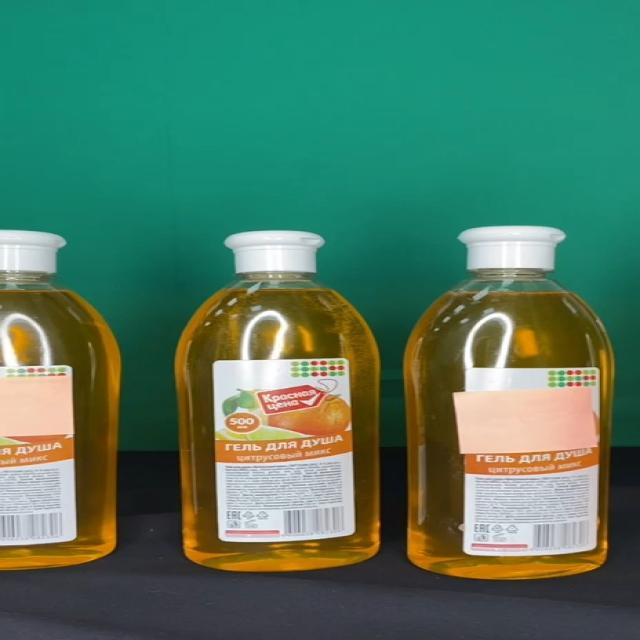Bottle: (402, 226, 616, 578), (175, 229, 382, 572)
Cap: (458, 227, 566, 270), (223, 230, 326, 272)
